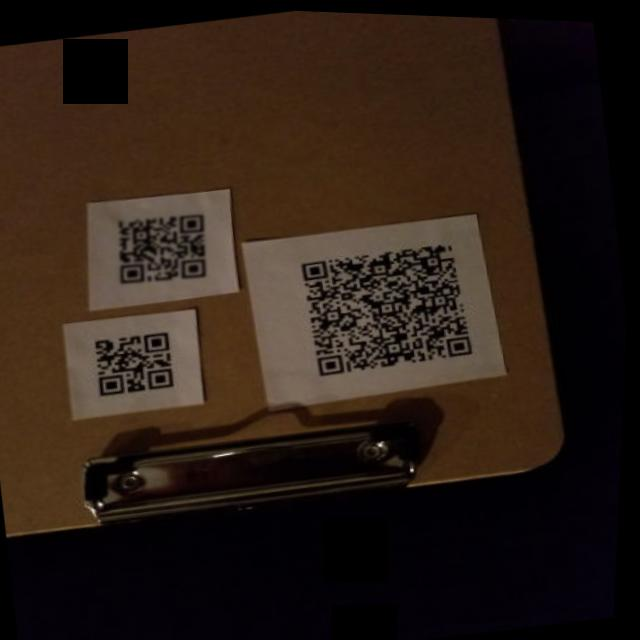QR_CODE: (281, 220, 500, 397), (95, 193, 232, 302), (79, 317, 199, 413)
